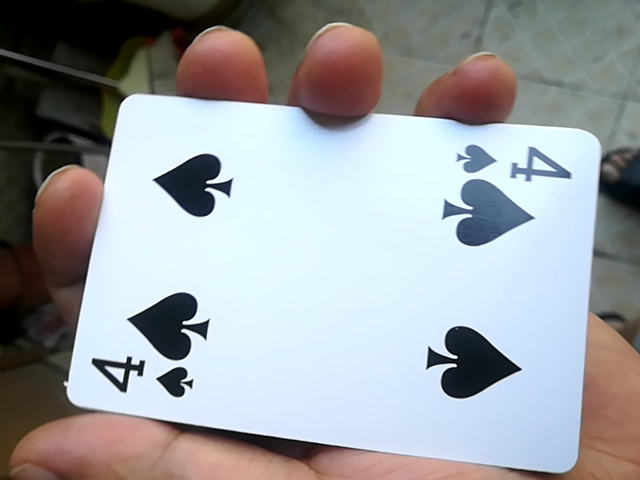ht 4: (64, 89, 604, 472)
